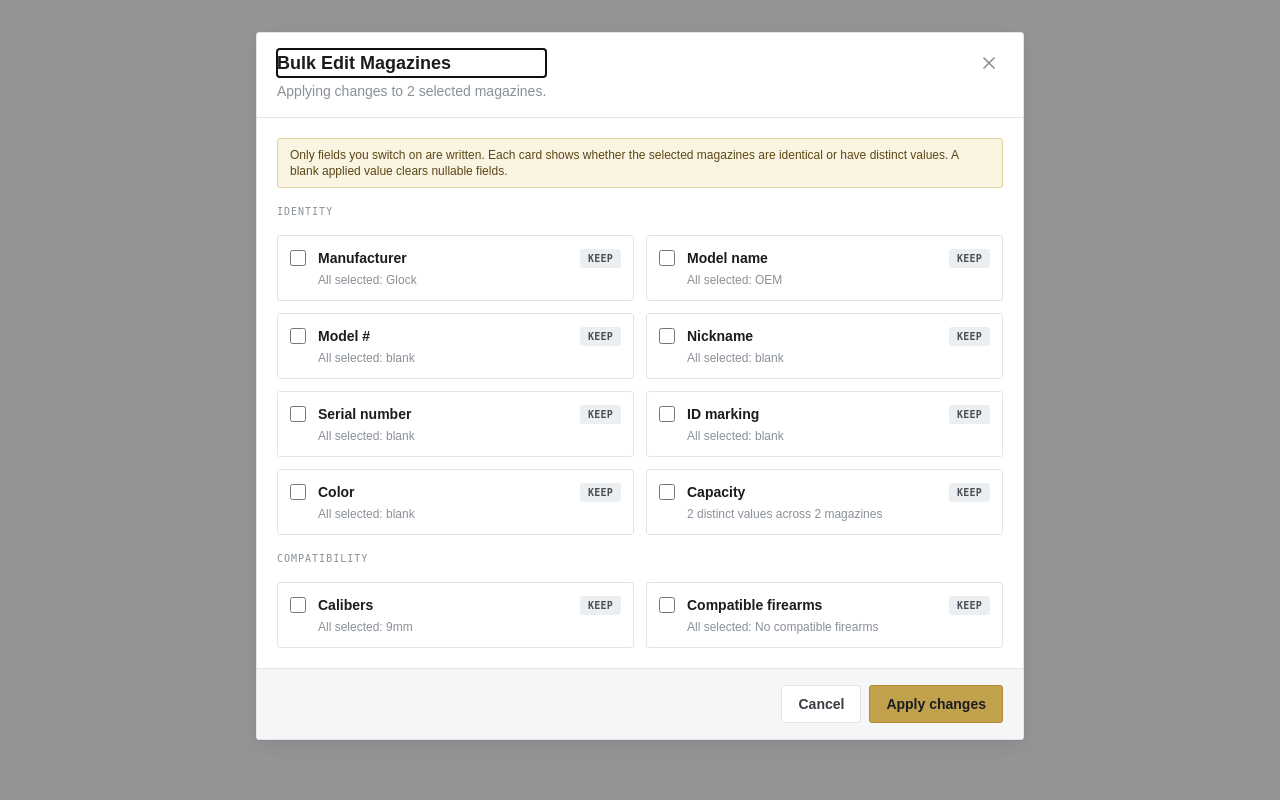
Test: MagazineBulkEditModal › treats unchanged group calibers as a no-op
Click the checkbox with id "bulk-magazine-calibers-apply" at [298, 605], box [290,597,306,613]
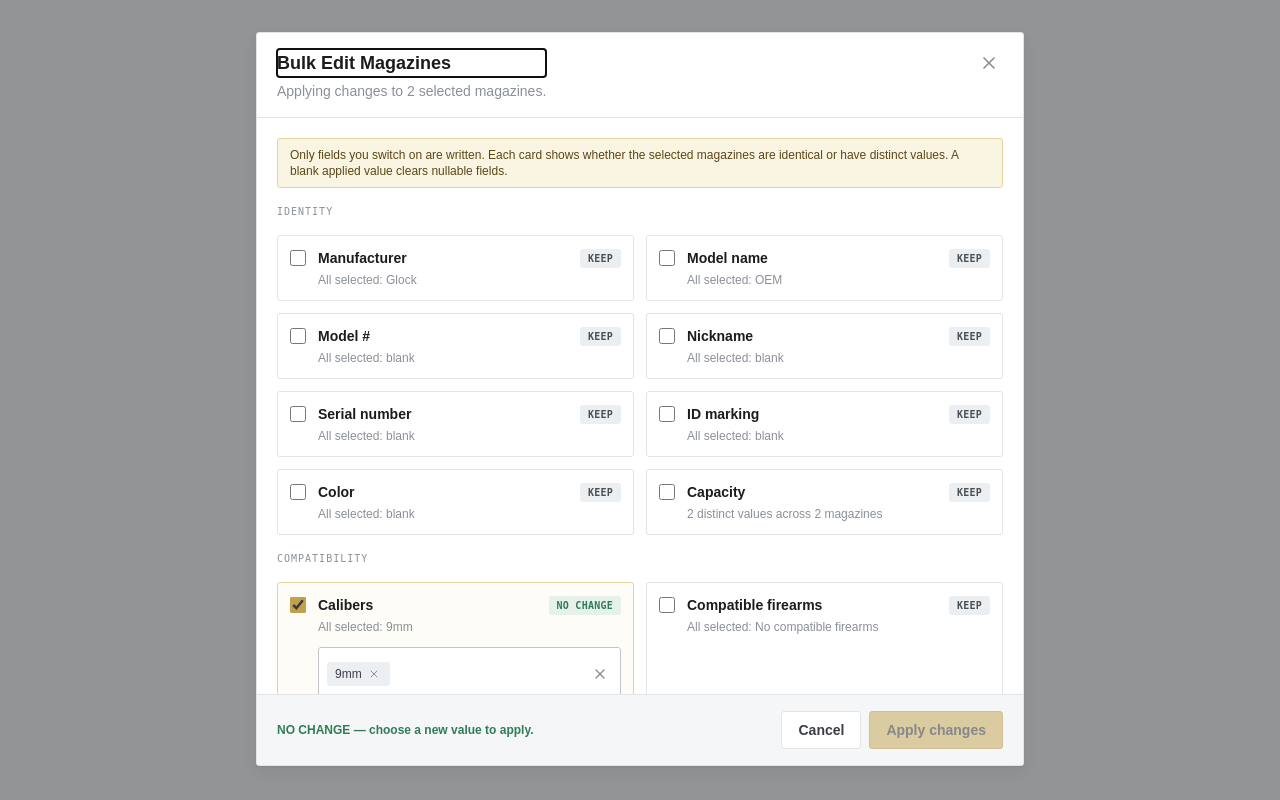
Result: the text "NO CHANGE" is shown at [549,596,621,614]
Result: the button with test id "bulk-magazine-submit" is disabled at [869,711,1003,749]
